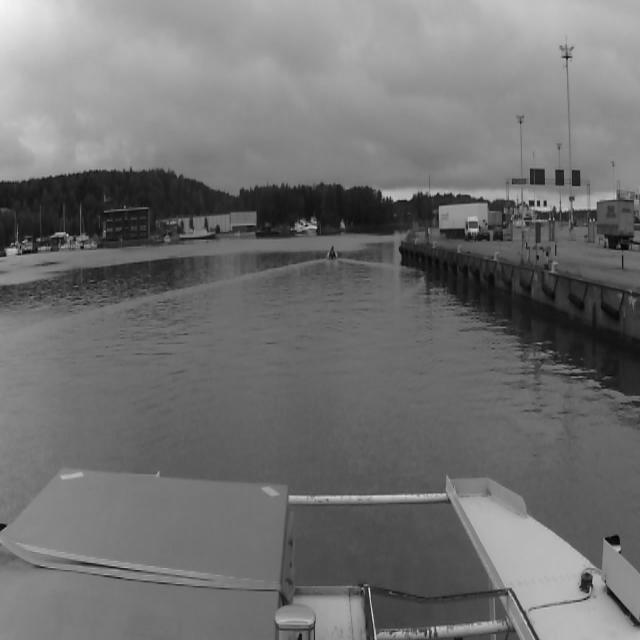ship: (36, 199, 56, 256), (56, 197, 75, 250), (182, 226, 216, 236), (324, 246, 338, 260), (293, 220, 307, 233)
